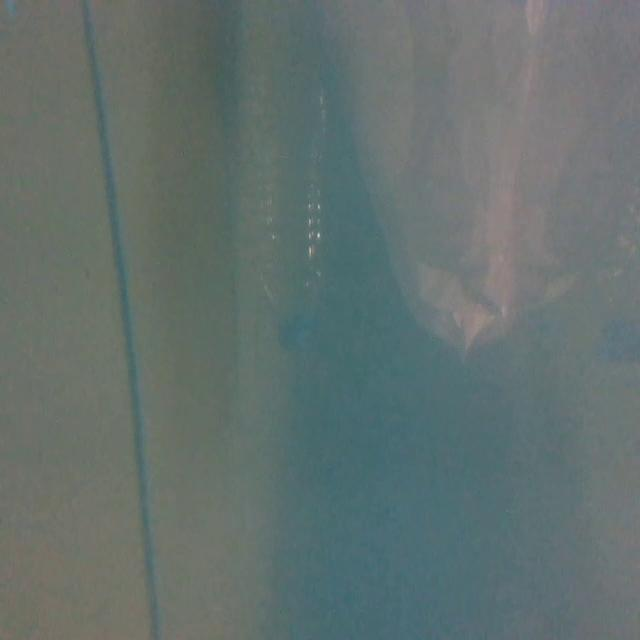plastic bags: (347, 0, 614, 360)
plastic bottle: (253, 74, 336, 350)
